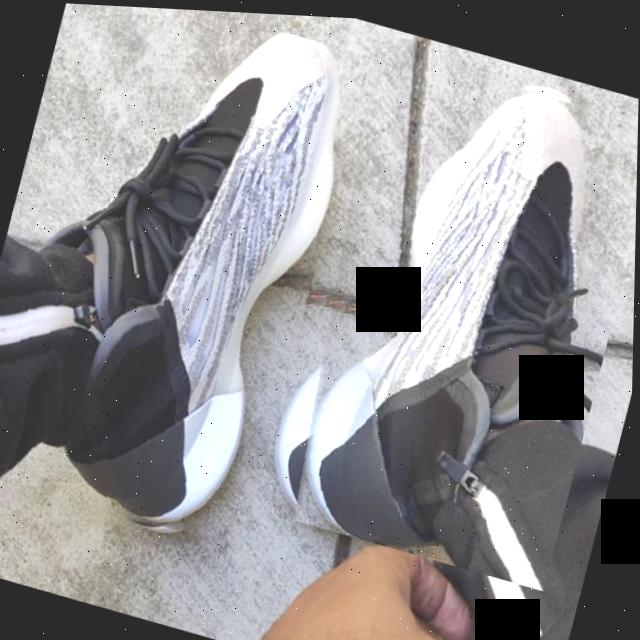shoe: (259, 30, 640, 588), (0, 0, 372, 561)
